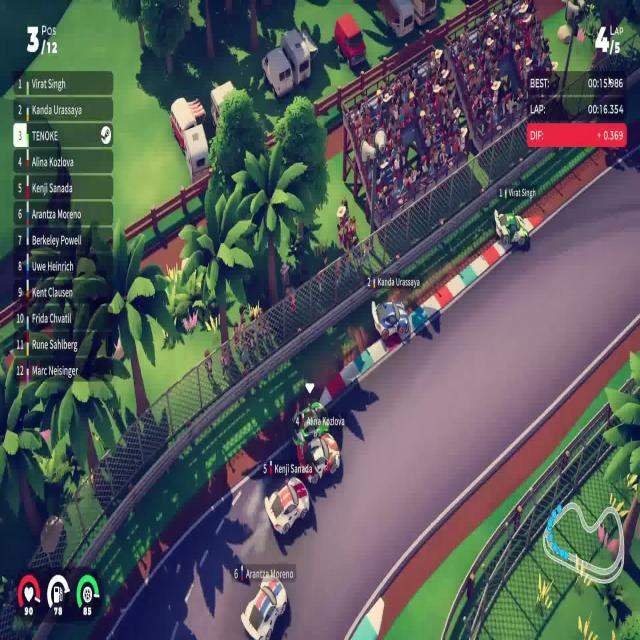car: (240, 575, 288, 639), (263, 474, 310, 536), (296, 431, 341, 485), (291, 400, 331, 448), (370, 297, 410, 343), (493, 207, 530, 251)
